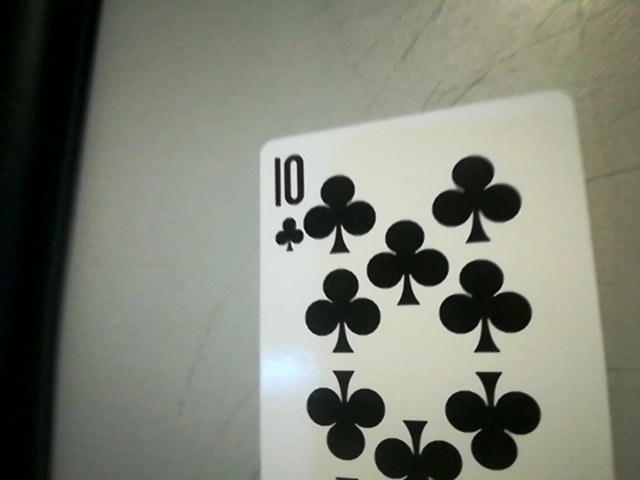mh 10: (259, 140, 314, 256)
